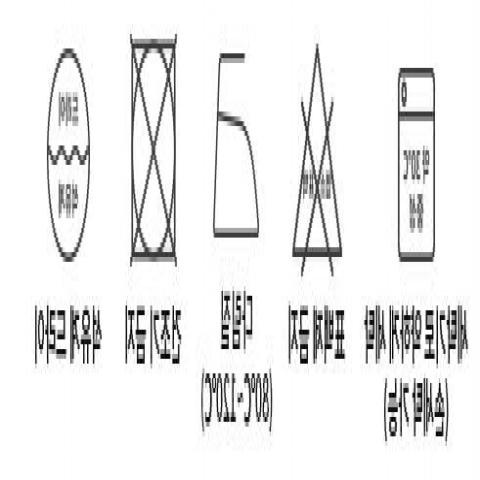30C: (389, 63, 444, 272)
DN_tumble_dry: (113, 26, 187, 275)
dry_clean_petrol_only: (32, 32, 99, 270)
iron: (204, 46, 271, 252)
non_chlorine_bleach: (282, 44, 346, 278)
